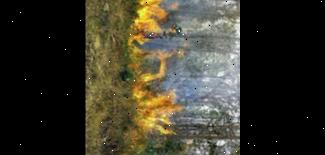fire: (125, 48, 185, 140), (126, 0, 180, 44)
